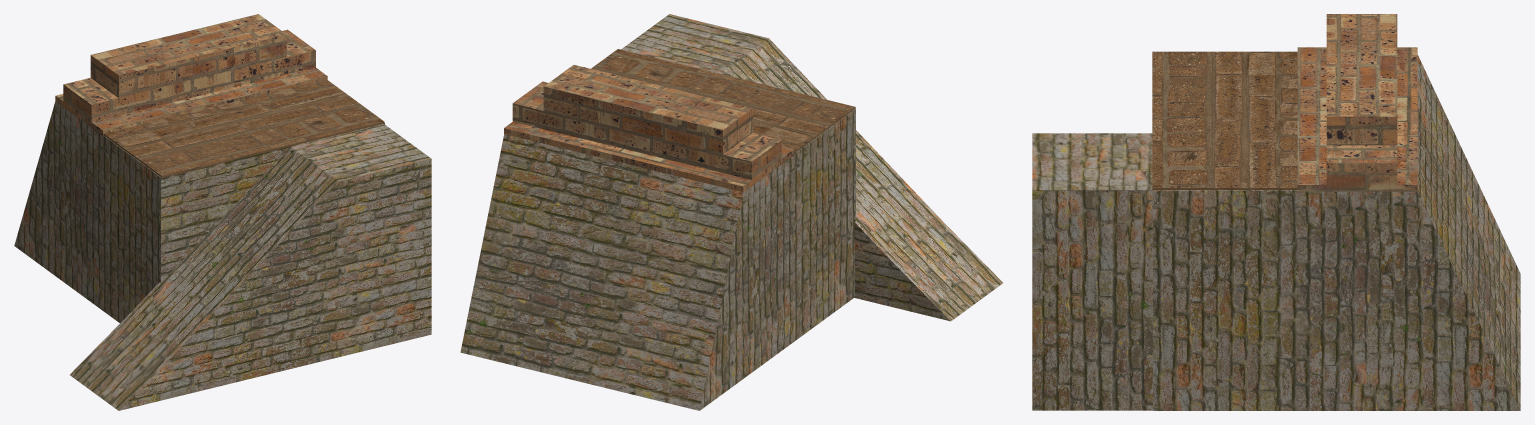
File: StairWall2.fbx
3 views of the same model, side by side, from view 1: azimuth 30°, elevation 25°; view 2: azimuth 150°, elevation 25°; view 3: azimuth 270°, elevation 25° (orthographic). The views are drawn at different scales.
Visible parts, largest first — view 1: Cube, StoneRampartWithStair.002, Rampart.007, RampartFloor.007; view 2: StoneRampartWithStair.002, Cube, Rampart.007, RampartFloor.007; view 3: StoneRampartWithStair.002, Cube, RampartFloor.007, Rampart.007.
Boxes of the visible parts, bbox=[...] form: Cube: bbox=[70, 123, 431, 410]; StoneRampartWithStair.002: bbox=[14, 101, 384, 322]; Rampart.007: bbox=[55, 14, 327, 135]; RampartFloor.007: bbox=[103, 79, 384, 177]; StoneRampartWithStair.002: bbox=[460, 109, 855, 410]; Cube: bbox=[621, 14, 1002, 321]; Rampart.007: bbox=[504, 65, 794, 192]; RampartFloor.007: bbox=[591, 49, 855, 153]; StoneRampartWithStair.002: bbox=[1153, 55, 1520, 410]; Cube: bbox=[1032, 133, 1152, 410]; RampartFloor.007: bbox=[1152, 51, 1297, 190]; Rampart.007: bbox=[1297, 14, 1417, 191].
Size of the model in its own units: 375 by 251 by 401.
